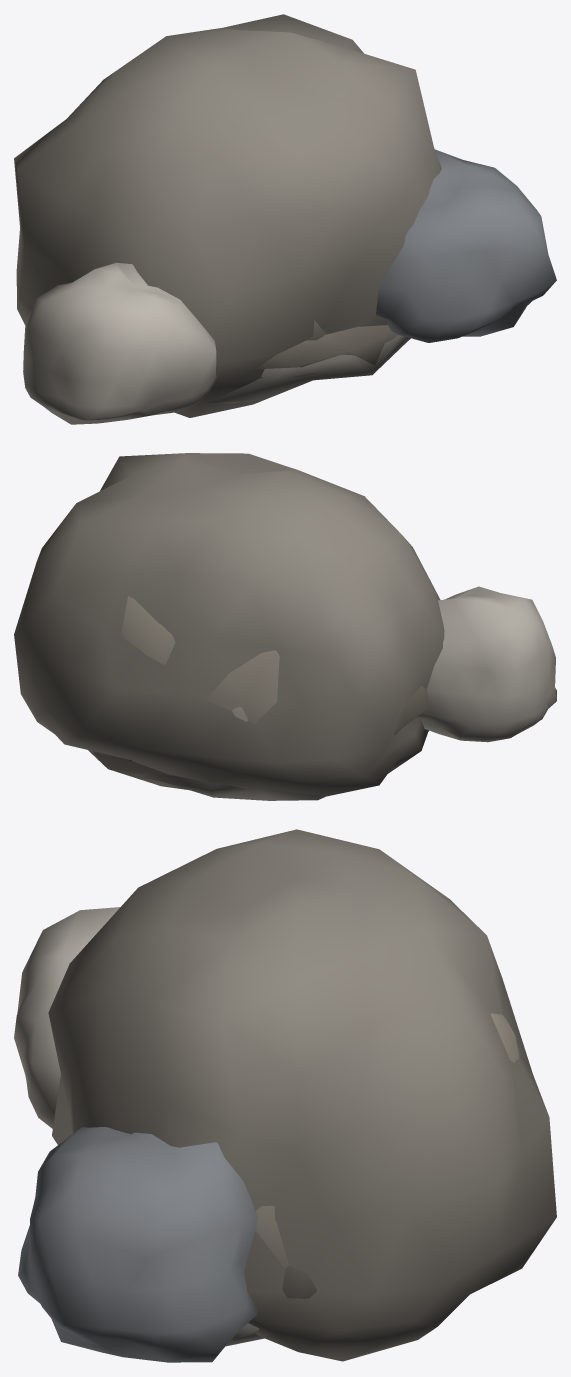
File: shore_pebbles.fbx
The picture shows the model from 3 angles, top to bottom: view 1: azimuth 30°, elevation 25°; view 2: azimuth 150°, elevation 25°; view 3: azimuth 270°, elevation 25°; orthographic projection. The views are drawn at different scales.
Parts seen in each view (by area): view 1: PebbleC, PebbleF, PebbleD, PebbleA; view 2: PebbleC, PebbleF, PebbleA; view 3: PebbleC, PebbleD, PebbleF, TuftA.
Part boxes in pixels (x1,y1,x2,y2): PebbleC: (14,14,441,417); PebbleF: (23,262,396,424); PebbleD: (376,149,556,342); PebbleA: (207,334,410,403); PebbleC: (14,453,444,796); PebbleF: (88,586,556,790); PebbleA: (91,706,325,800); PebbleC: (48,829,556,1361); PebbleD: (18,1127,257,1362); PebbleF: (14,907,519,1268); TuftA: (282,1266,316,1298).
Size of the model in its own units: 25.78 by 15.08 by 17.85.
